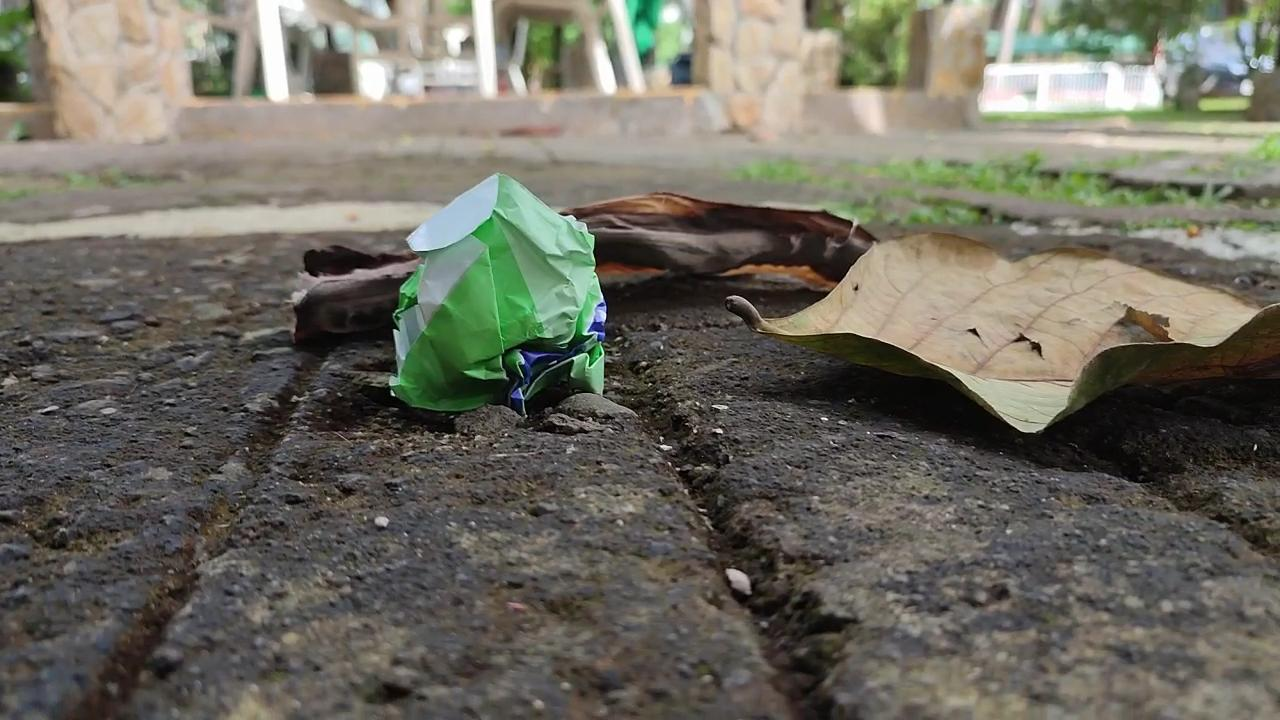Paper: (362, 155, 636, 436)
